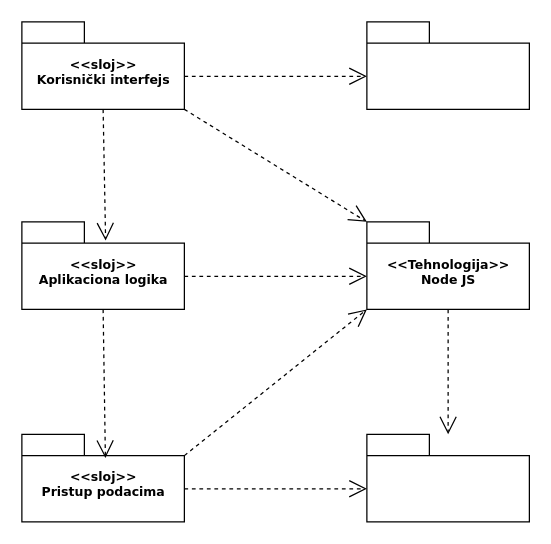
Some shapes in this 551 by 544 pixel diagram are drawn without their labels. The shapes that lost their labels are listed below. From the top down, each one's centre as x and y in pixels, then its label:
point 447,65: <<Tehnologija>> React JS
point 447,477: <<DBMS>> MongoDB
